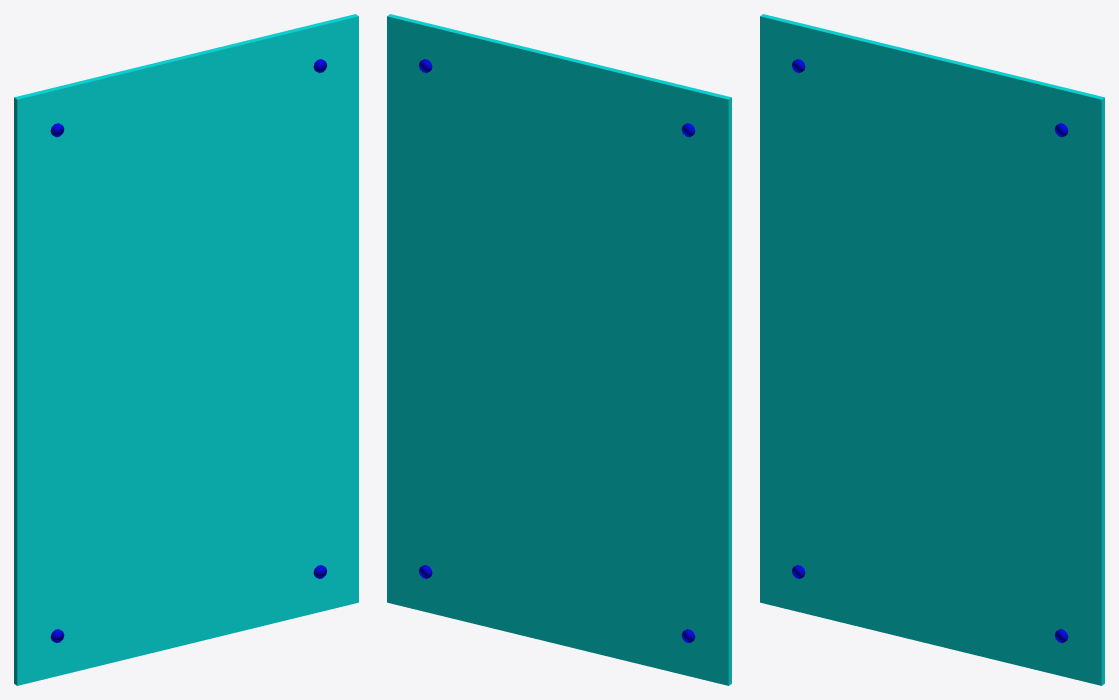
The model's file is cuadro_10_low.fbx.
3 renders of one model, left to right at view 1: azimuth 30°, elevation 25°; view 2: azimuth 150°, elevation 25°; view 3: azimuth 330°, elevation 25°, orthographic.
Parts seen in each view (by area): view 1: pCube6; view 2: pCube6; view 3: pCube6.
Boxes of the visible parts, bbox=[...] form: pCube6: bbox=[14, 14, 358, 685]; pCube6: bbox=[387, 14, 731, 685]; pCube6: bbox=[760, 14, 1104, 685].
Size of the model in its own units: 61 by 100 by 2.
